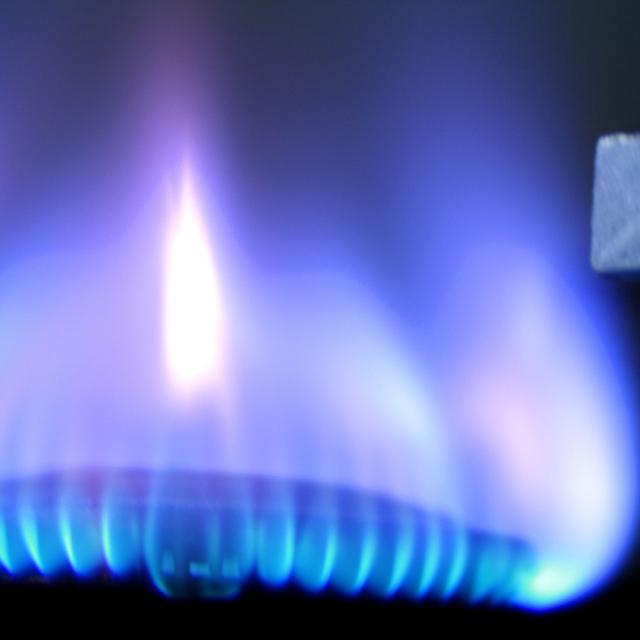Fire: (22, 459, 460, 562), (506, 376, 602, 546), (164, 196, 218, 376)
